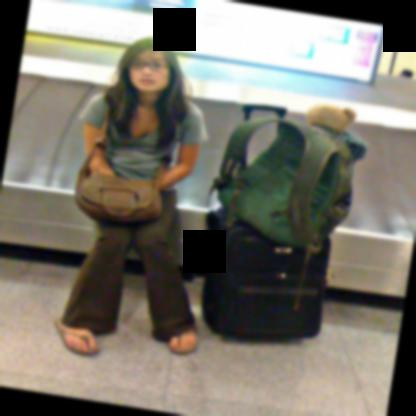backpack: (207, 116, 367, 265)
handbag: (73, 107, 173, 222)
suitcase: (198, 205, 332, 340)
